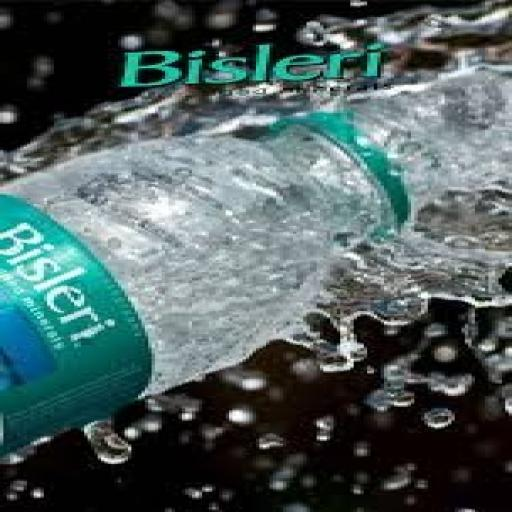bottle: (0, 105, 512, 466)
